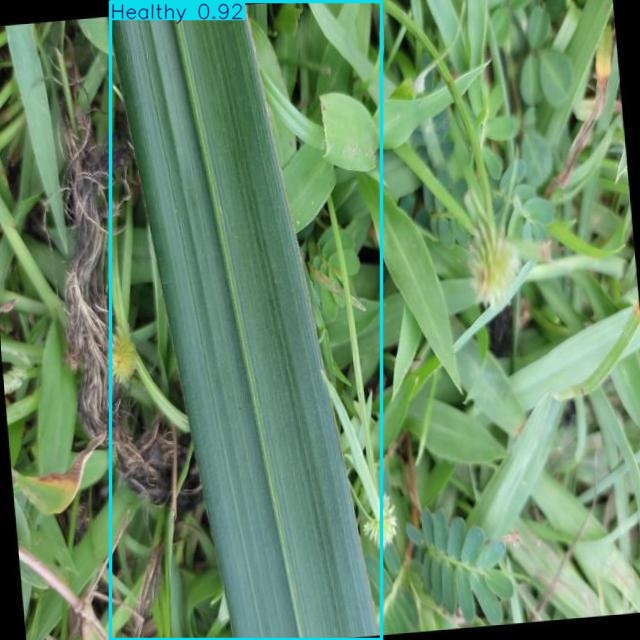Healthy: (110, 2, 382, 640)
